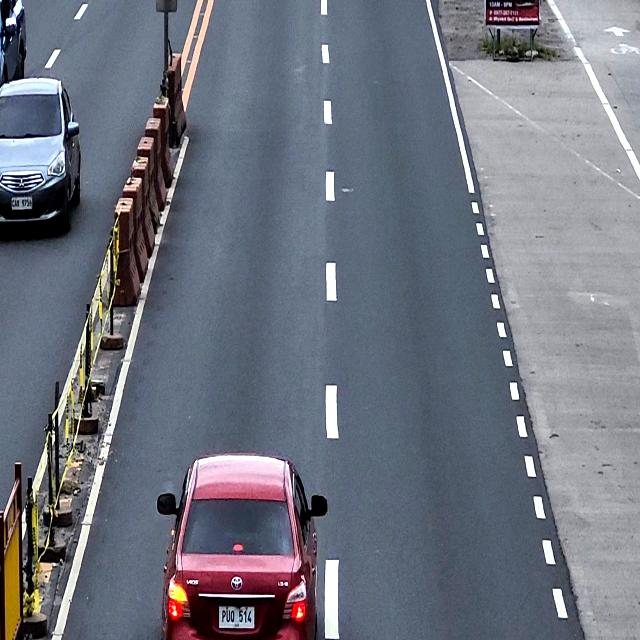Car: (156, 453, 328, 639), (0, 76, 81, 232), (0, 0, 27, 85)
License-Plate: (217, 603, 256, 629), (11, 195, 34, 211)
